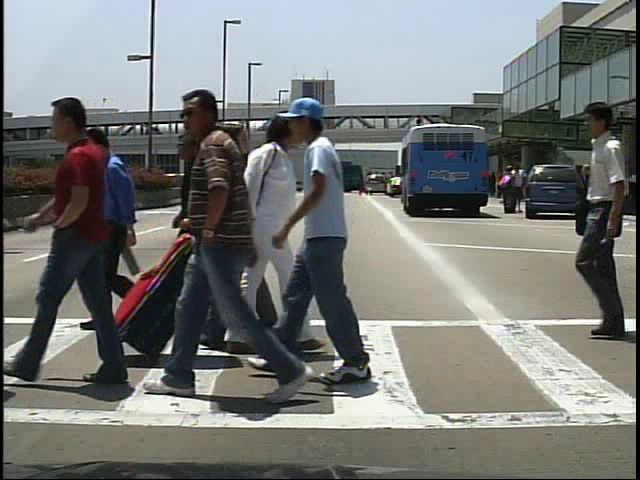person: (168, 84, 301, 422), (16, 91, 137, 389), (196, 110, 312, 363), (289, 104, 390, 385), (69, 122, 150, 342), (560, 102, 633, 342), (202, 121, 261, 361), (203, 134, 275, 330), (166, 129, 239, 322), (198, 185, 240, 319), (582, 168, 602, 218), (498, 166, 516, 219), (514, 165, 530, 215)
